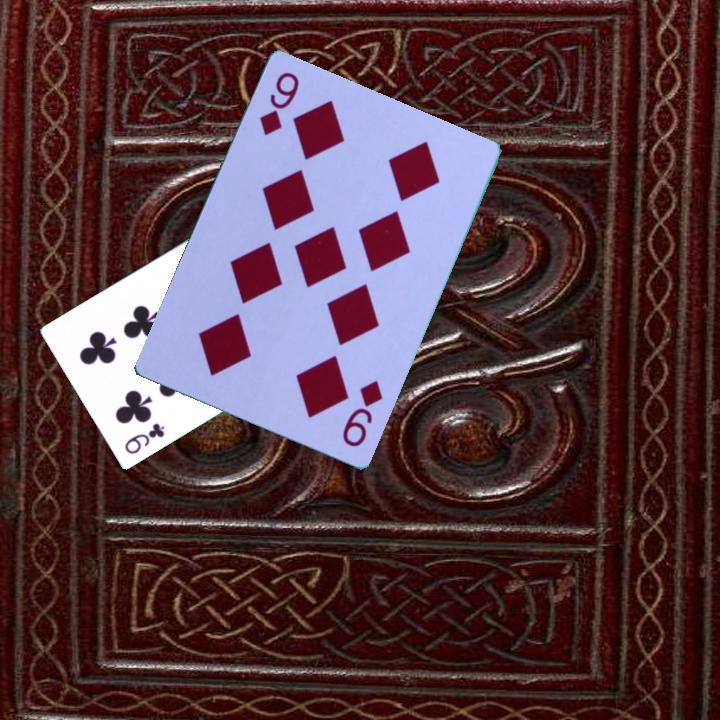9c: (121, 420, 168, 458)
9d: (337, 377, 387, 451), (256, 69, 303, 139)
